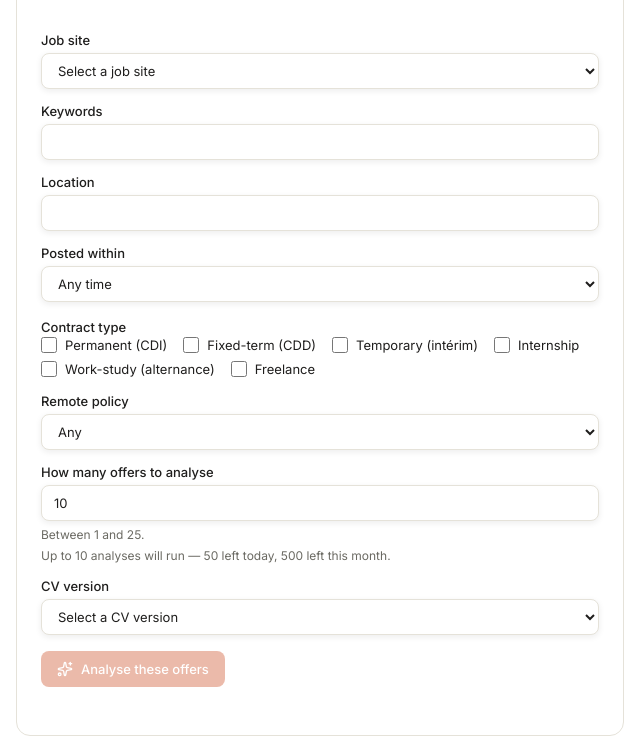
Scenario: AnalyseSeveralOffersPage › shows bare quota-skipped markers (no empty-run message) when the job detail lags
The image size is (641, 753).
(page scrolled)
Select "Default CV — Converted" in the dropdown labelled "CV version": (320, 617) left=41, top=599, right=599, bottom=635
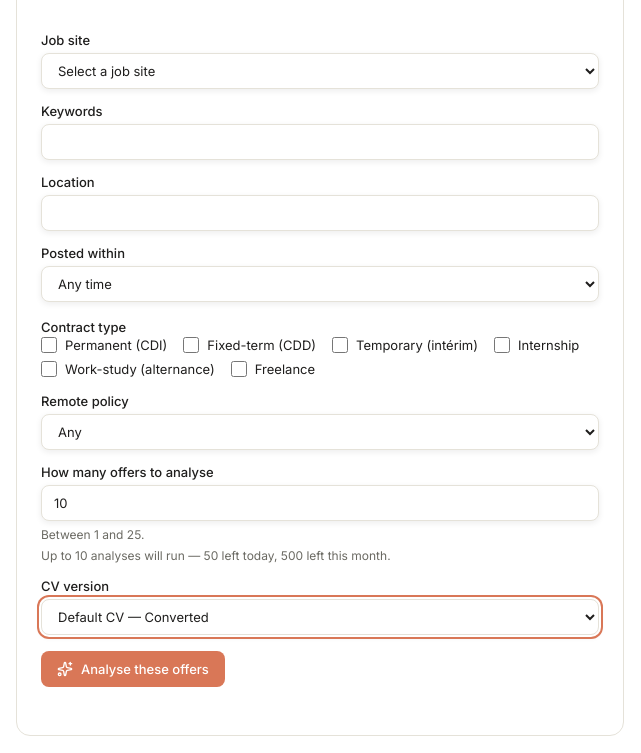
Select "France Travail — recommended" in the dropdown labelled "Job site": (320, 71) left=41, top=53, right=599, bottom=89
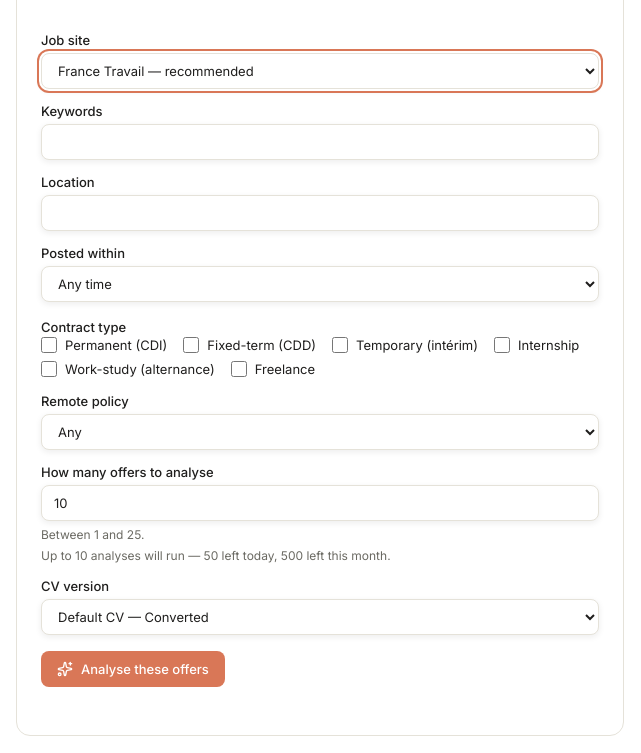
Click the button "Analyse these offers": (133, 669) left=41, top=651, right=225, bottom=687
(page scrolled)
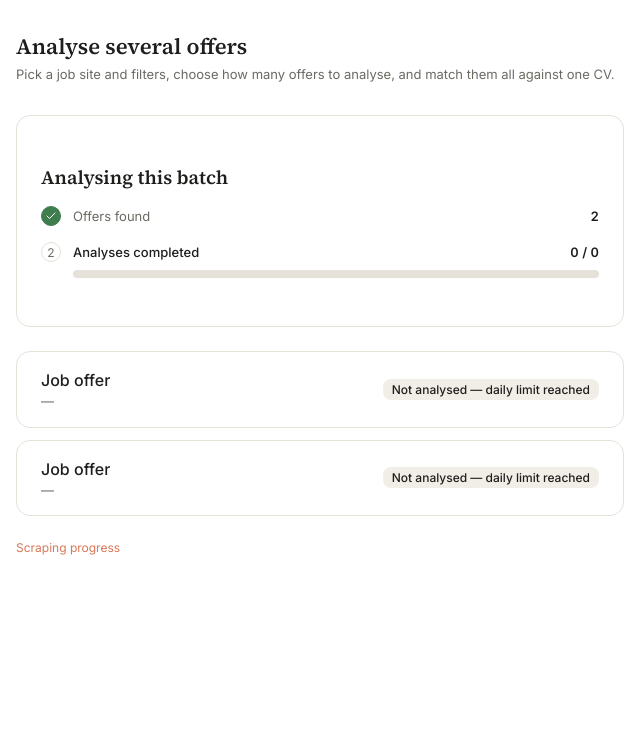
Check: the text "Not analysed — daily limit reached" is shown 2 times, box left=383, top=379, right=599, bottom=400; left=383, top=467, right=599, bottom=488
